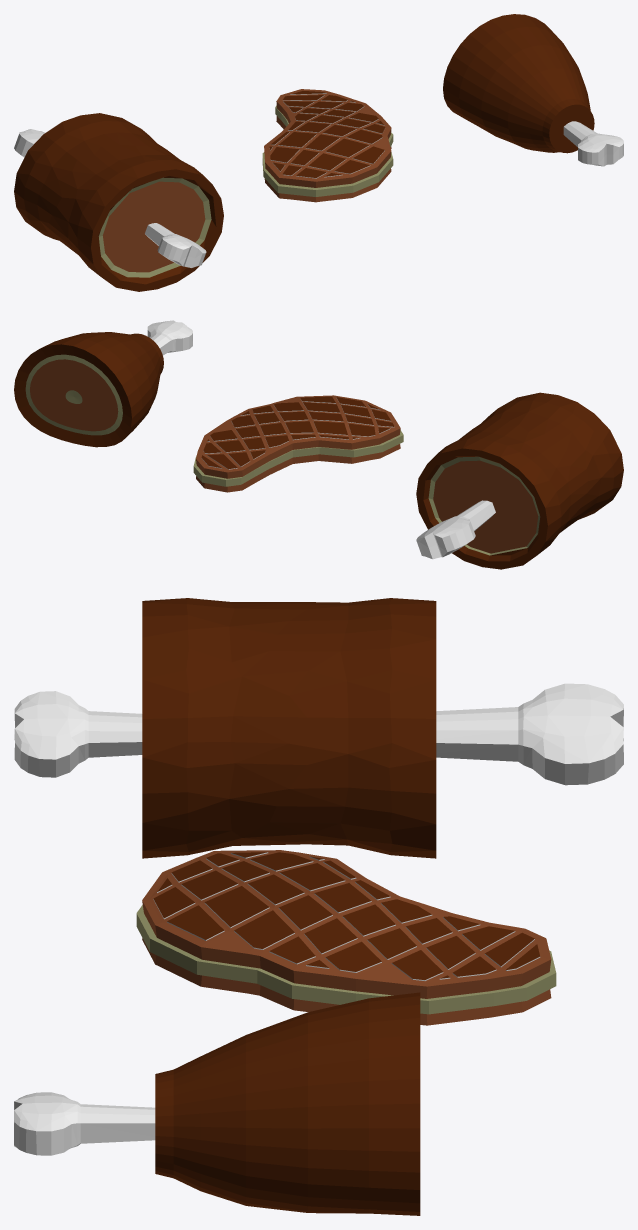
File: Carne.fbx
3 views of the same model, one above another, from view 1: azimuth 30°, elevation 25°; view 2: azimuth 150°, elevation 25°; view 3: azimuth 270°, elevation 25° (orthographic). The views are drawn at different scales.
Parts seen in each view (by area): view 1: Carne3, Carne2, Carne1; view 2: Carne3, Carne2, Carne1; view 3: Carne3, Carne2, Carne1.
Boxes of the visible parts, x1,y1,x2,y2 form: Carne3: (14,113,223,291); Carne2: (443,14,623,166); Carne1: (262,89,393,202); Carne3: (416,392,623,569); Carne2: (14,320,192,447); Carne1: (193,395,403,492); Carne3: (14,598,623,858); Carne2: (14,992,420,1215); Carne1: (136,850,556,1025).
Size of the model in its own units: 410 by 85.05 by 208.
